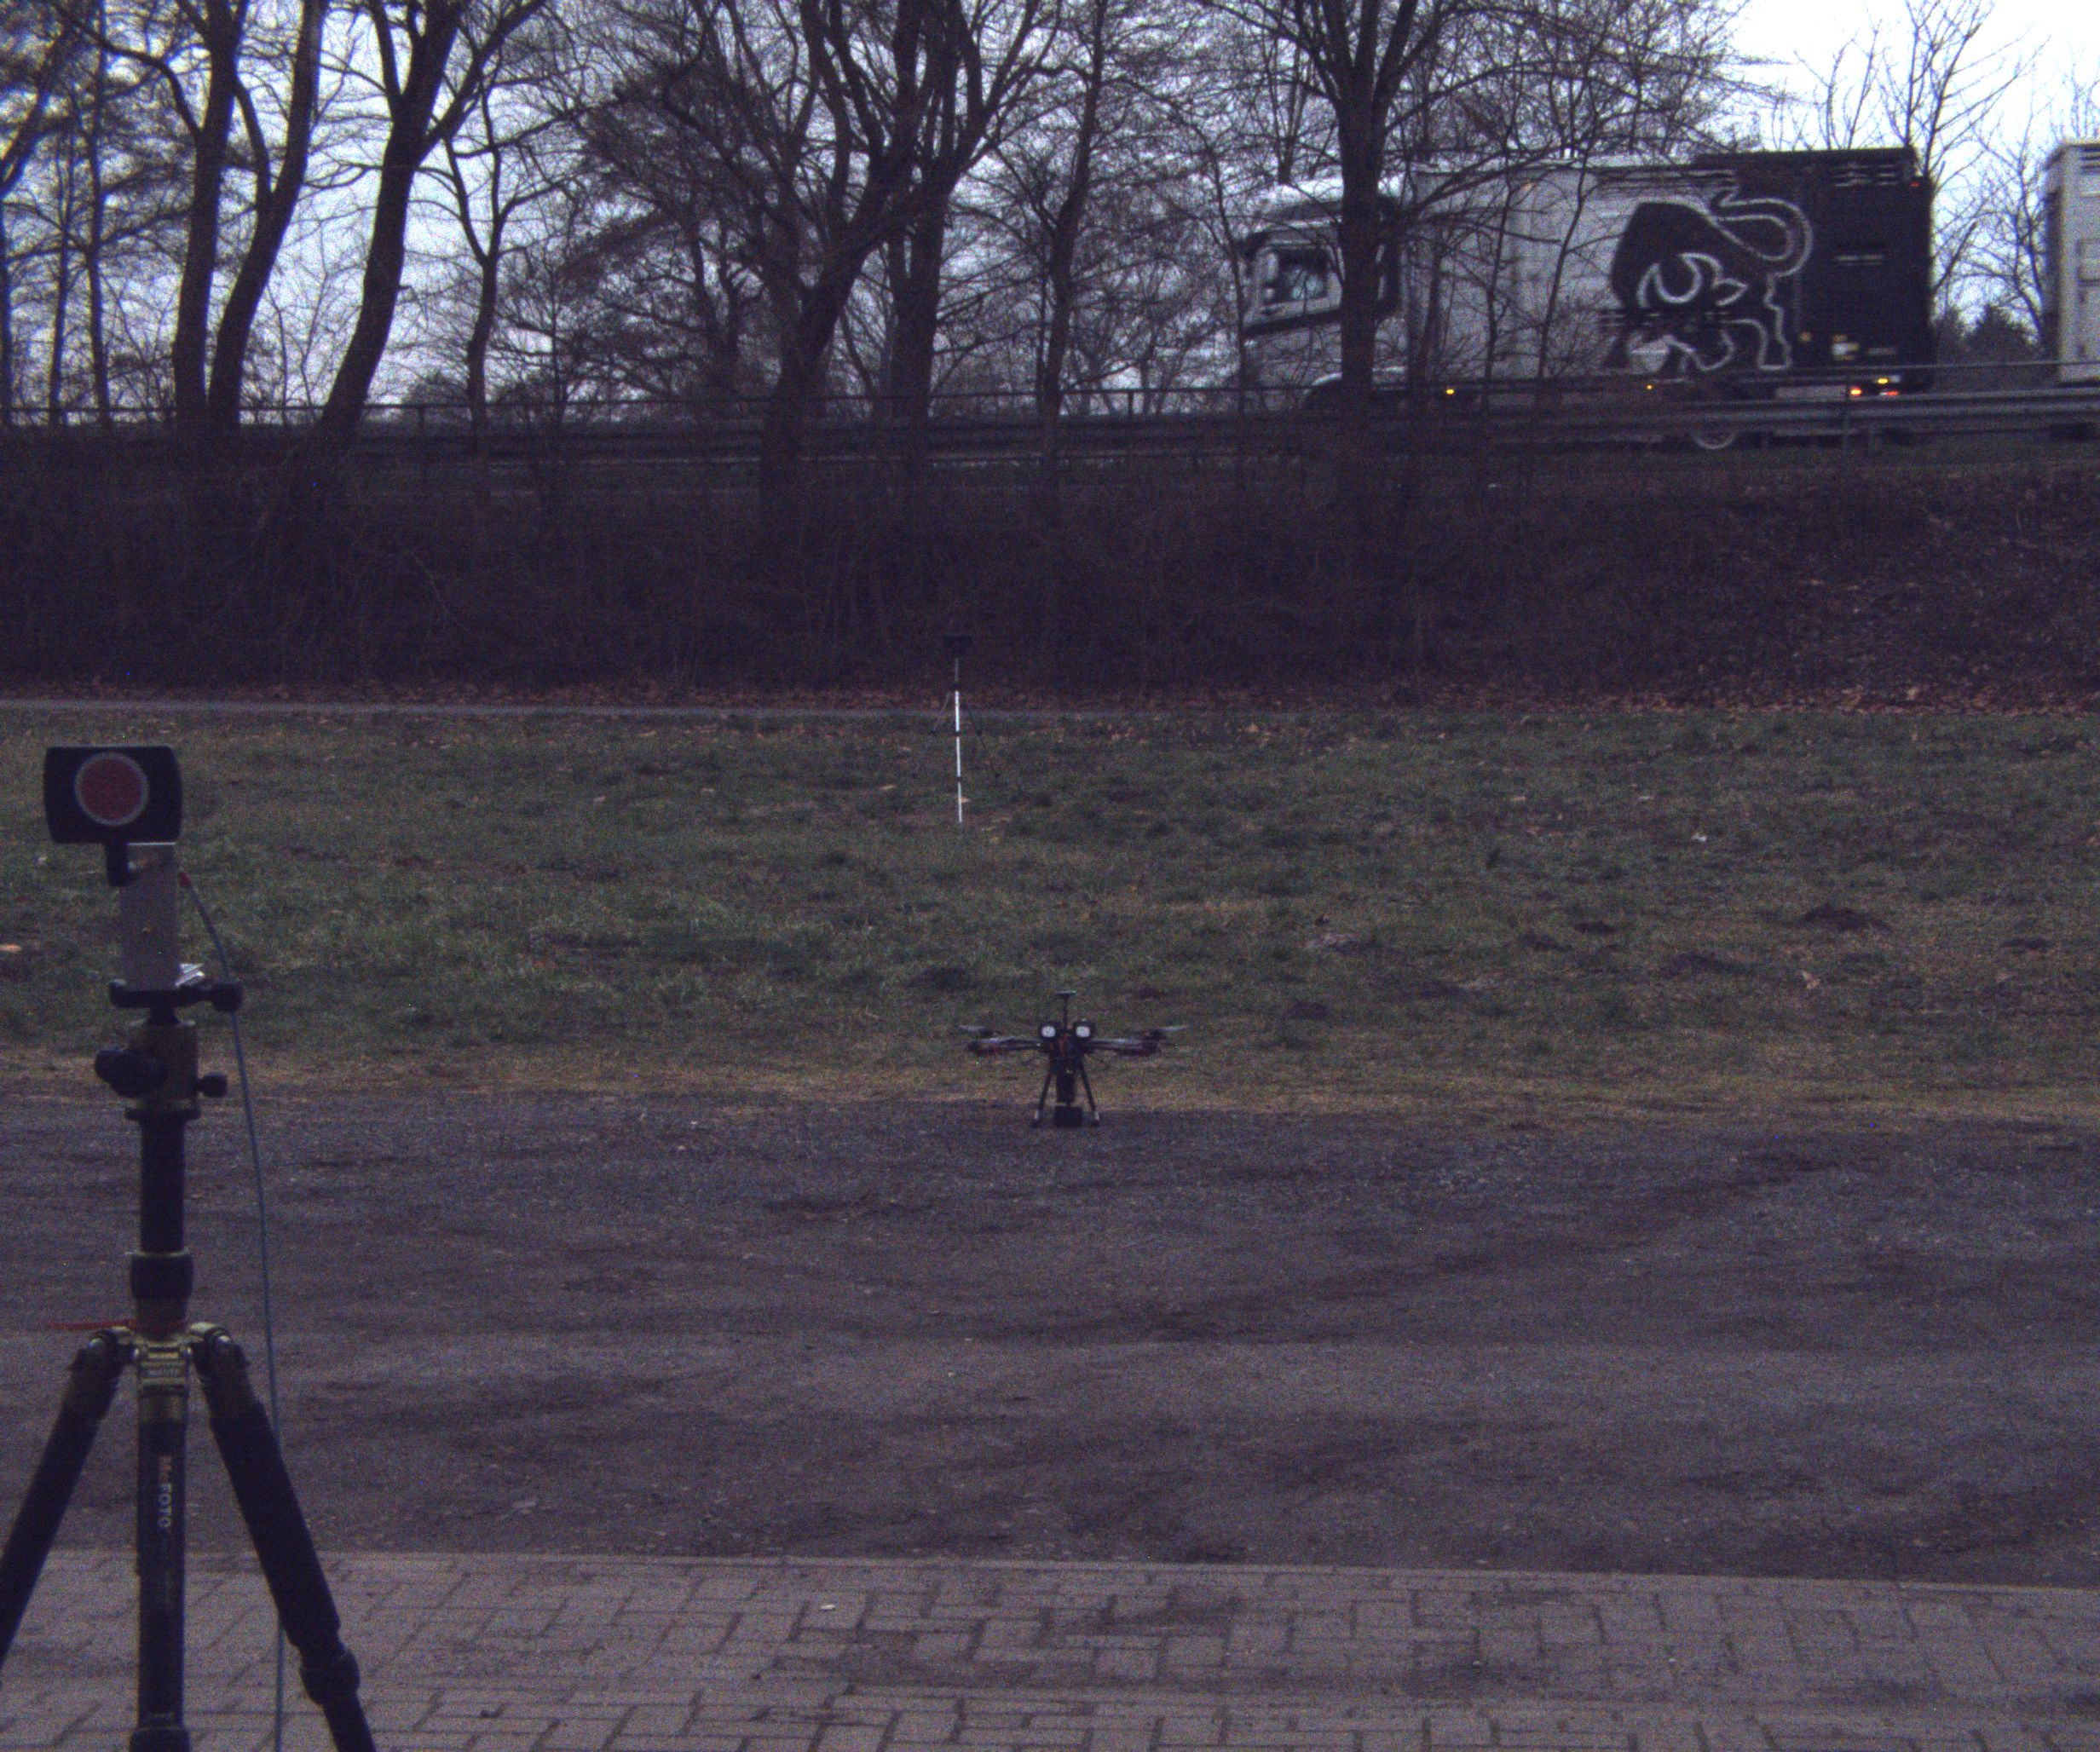Drohne: (931, 978, 1198, 1144)
